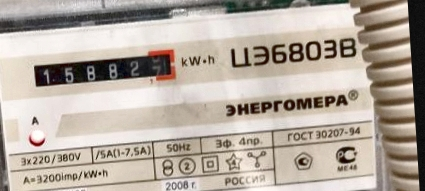1: (40, 66, 51, 85)
2: (128, 58, 140, 77)
5: (62, 66, 74, 83)
7: (150, 64, 162, 76)
8: (83, 63, 96, 81), (106, 61, 118, 79)
screen: (24, 45, 181, 96)
